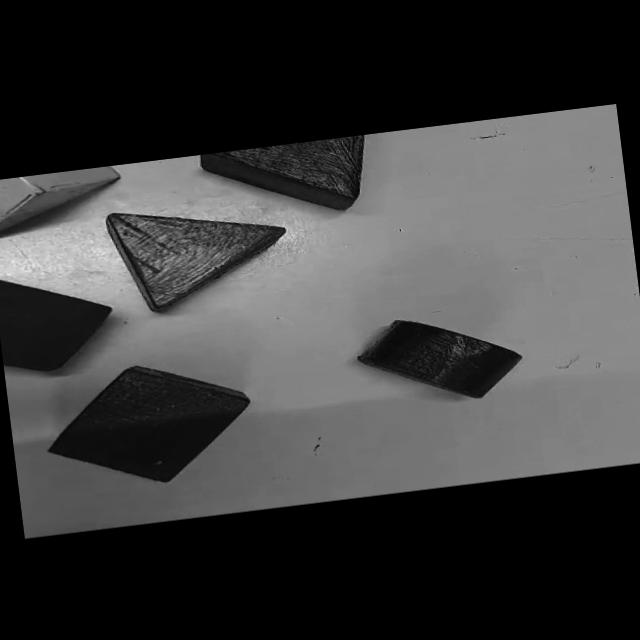bcircle: (357, 320, 521, 398)
bcube: (48, 367, 248, 482)
btriangle: (199, 135, 363, 210)
rtriangle: (104, 213, 285, 313)
